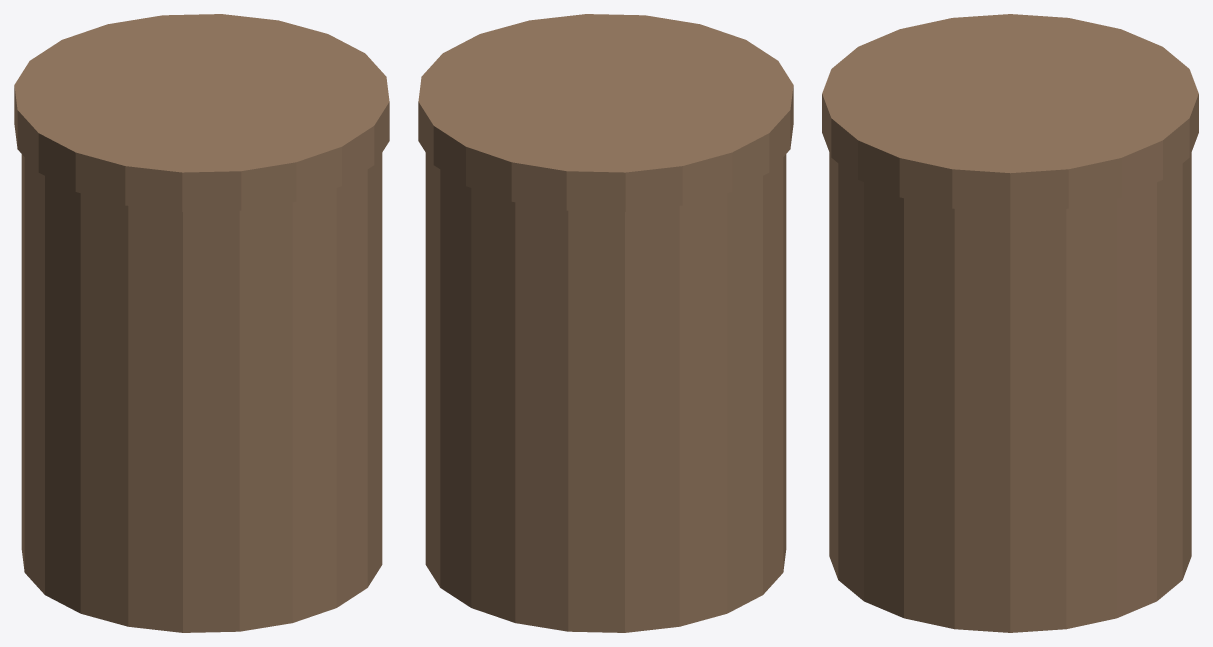
Rendered from g_coffee_tin.glb.
3 views of the same model, side by side, from view 1: azimuth 30°, elevation 25°; view 2: azimuth 150°, elevation 25°; view 3: azimuth 270°, elevation 25° (orthographic).
Visible parts, largest first — view 1: g_coffee_tin; view 2: g_coffee_tin; view 3: g_coffee_tin.
Part boxes in pixels (x1,y1,x2,y2): g_coffee_tin: [14, 14, 389, 632]; g_coffee_tin: [418, 14, 793, 632]; g_coffee_tin: [822, 14, 1198, 632].
Bounding box in the file's own units: 0.104 × 0.141 × 0.104.
